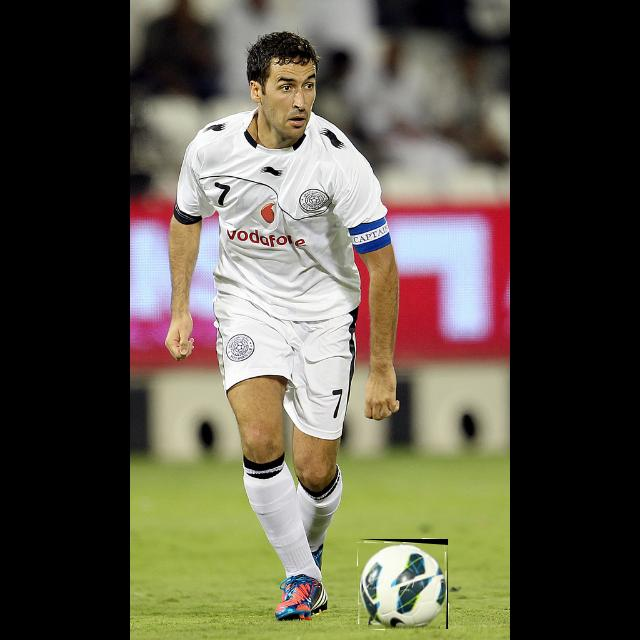Football: (358, 539, 448, 629)
